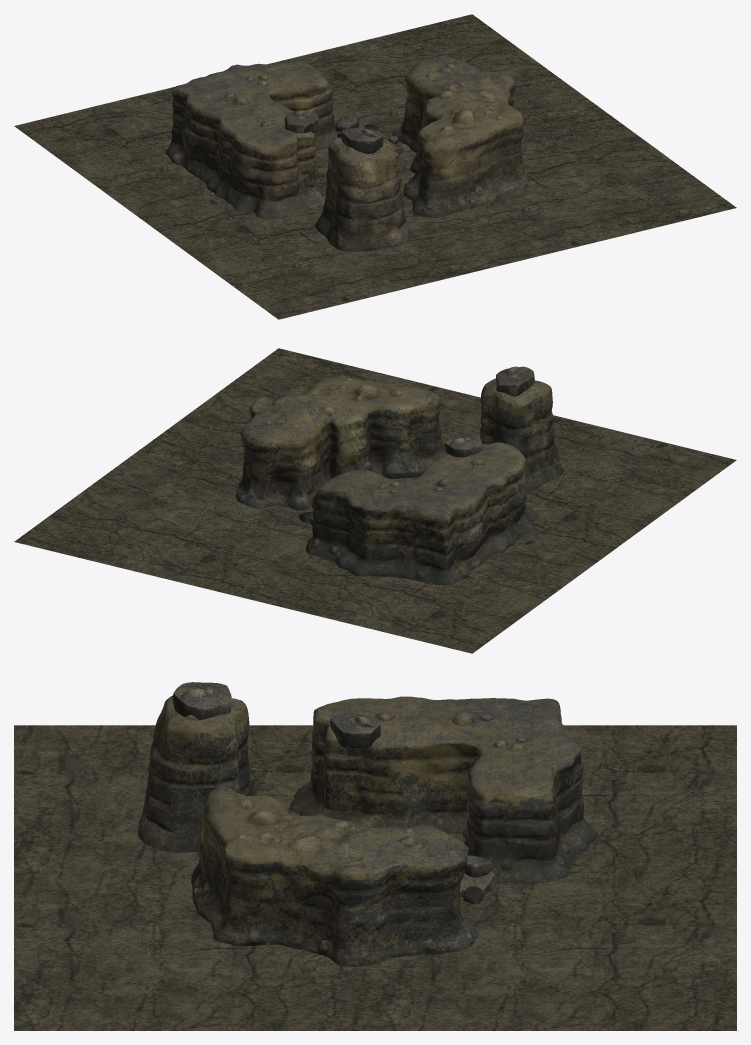
File: rocks_set2.glb
3 renders of one model, top to bottom at view 1: azimuth 30°, elevation 25°; view 2: azimuth 150°, elevation 25°; view 3: azimuth 270°, elevation 25°, orthographic. The views are drawn at different scales.
Visible parts, largest first — view 1: floor, cliff3, cliff2, cliff1, smallrock5_1, smallrock5; view 2: floor, cliff3, cliff2, cliff1, smallrock5_1, smallrock5; view 3: floor, cliff3, cliff2, cliff1, smallrock5_1, smallrock5, smallrockcluster_1.
Part boxes in pixels (left/top/right/bottom): floor: left=14, top=14, right=736, bottom=319; cliff3: left=165, top=61, right=338, bottom=219; cliff2: left=392, top=56, right=528, bottom=217; cliff1: left=315, top=137, right=411, bottom=251; smallrock5_1: left=340, top=128, right=383, bottom=153; smallrock5: left=284, top=110, right=318, bottom=133; floor: left=14, top=348, right=736, bottom=653; cliff3: left=306, top=442, right=537, bottom=585; cliff2: left=235, top=375, right=446, bottom=510; cliff1: left=480, top=378, right=563, bottom=493; smallrock5_1: left=496, top=366, right=534, bottom=396; smallrock5: left=444, top=434, right=482, bottom=457; floor: left=14, top=725, right=736, bottom=1030; cliff3: left=289, top=696, right=597, bottom=884; cliff2: left=191, top=786, right=477, bottom=966; cliff1: left=138, top=695, right=252, bottom=852; smallrock5_1: left=172, top=682, right=231, bottom=719; smallrock5: left=330, top=713, right=380, bottom=748; smallrockcluster_1: left=460, top=855, right=496, bottom=904.
Bounding box in the file's own units: 5118 × 1153 × 5118.
2 materials, 2 textured.
